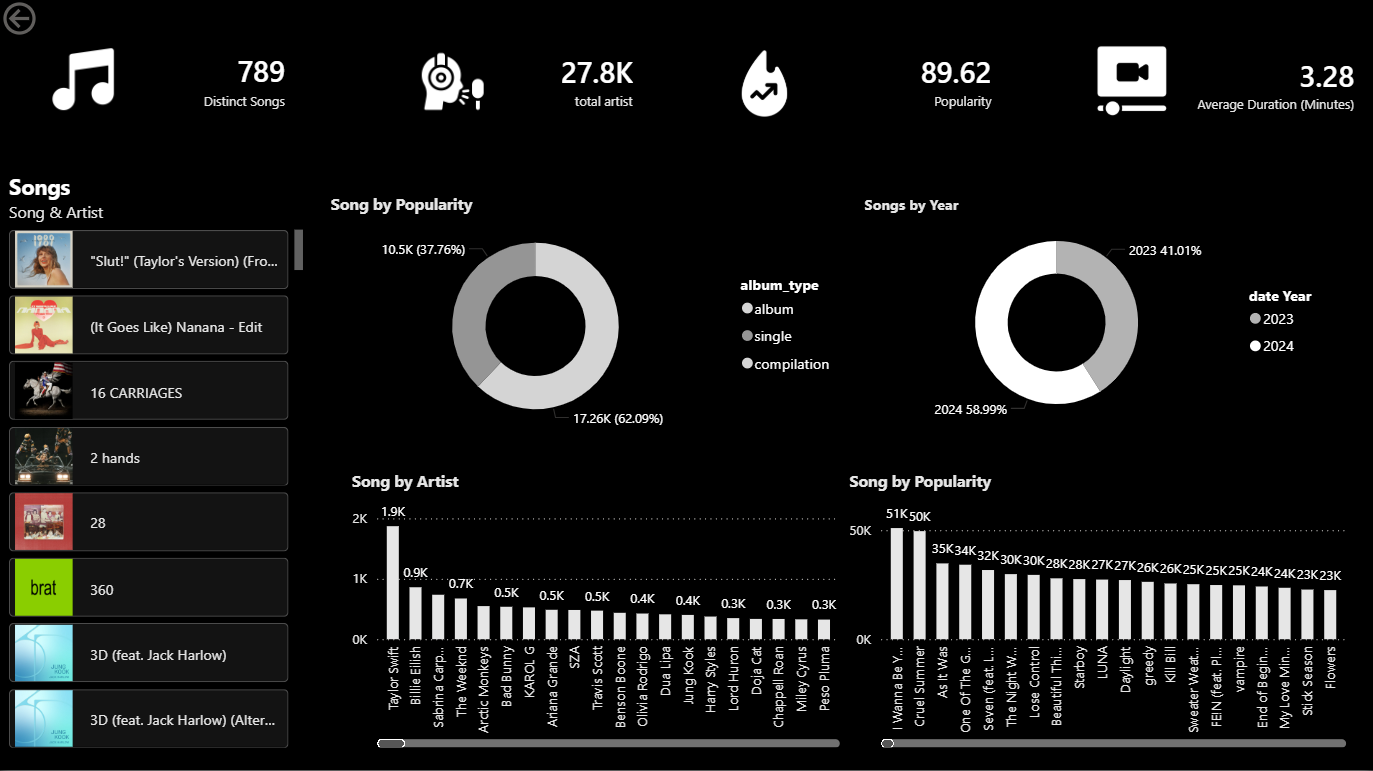

The page's visual inventory and layout, read from the dashboard file:
{"tool":"powerbi","page":{"name":"Overview","canvas":[1280,720],"ordinal":1},"visuals":[{"type":"advancedSlicerVisual","title":"Songs","fields":{"Values":["spotify-top-50-world.song"],"Label":["Min(spotify-top-50-world.album_cover_url)"]},"box":[9.6,163.3,275.8,539.3],"z":0},{"type":"columnChart","title":"Song by Artist","fields":{"Category":["spotify-top-50-world.artist"],"Y":["CountNonNull(spotify-top-50-world.song)"]},"box":[323.8,439.1,463.8,263.5],"z":1000},{"type":"columnChart","title":"Song by Popularity","fields":{"Category":["spotify-top-50-world.song"],"Y":["Sum(spotify-top-50-world.popularity)"]},"box":[787.7,439.1,472,263.5],"z":2000},{"type":"actionButton","box":[0,0,100,40],"z":3000},{"type":"donutChart","title":"Song by Popularity","fields":{"Category":["spotify-top-50-world.album_type"],"Y":["CountNonNull(spotify-top-50-world.song)"]},"box":[304.6,182.5,483,229.2],"z":4000},{"type":"cardVisual","fields":{"Data":["Measure.Distinct Songs"]},"box":[20.6,39.8,264.8,76.8],"z":5000},{"type":"image","box":[393.8,43.9,57.6,68.6],"z":6000},{"type":"image","box":[691.6,49.4,61.7,63.1],"z":7000},{"type":"image","box":[975.6,39.8,157.8,76.8],"z":8000},{"type":"image","box":[49.4,48,60.4,57.6],"z":9000},{"type":"cardVisual","fields":{"Data":["CountNonNull(Top-50-World.artist)"]},"box":[323.8,43.9,284,68.6],"z":10000},{"type":"cardVisual","fields":{"Data":["Measure.Average Popularity"]},"box":[658.1,41.9,284.9,72.1],"z":11000},{"type":"cardVisual","fields":{"Data":["Measure.Average Duration (Minutes)"]},"box":[996.5,45.3,283.7,72.1],"z":12000},{"type":"donutChart","title":"Songs by Year","fields":{"Category":["Top-50-World.date.Variation.Date Hierarchy.Year"],"Y":["CountNonNull(Top-50-World.song)"]},"box":[801.4,182.5,444.6,219.6],"z":13000}]}

Visuals, with their boxes in screenshot pixels (x1, y1, x2, y2), scaled from the page's 1280x720 canvas onto the 1373x771 screenshot:
"Songs" advancedSlicerVisual: (x1=10, y1=175, x2=306, y2=752)
"Song by Artist" columnChart: (x1=347, y1=470, x2=845, y2=752)
"Song by Popularity" columnChart: (x1=845, y1=470, x2=1351, y2=752)
actionButton: (x1=0, y1=0, x2=107, y2=43)
"Song by Popularity" donutChart: (x1=327, y1=195, x2=845, y2=441)
cardVisual - Measure.Distinct Songs: (x1=22, y1=43, x2=306, y2=125)
image: (x1=422, y1=47, x2=484, y2=120)
image: (x1=742, y1=53, x2=808, y2=120)
image: (x1=1046, y1=43, x2=1216, y2=125)
image: (x1=53, y1=51, x2=118, y2=113)
cardVisual - CountNonNull(Top-50-World.artist): (x1=347, y1=47, x2=652, y2=120)
cardVisual - Measure.Average Popularity: (x1=706, y1=45, x2=1012, y2=122)
cardVisual - Measure.Average Duration (Minutes): (x1=1069, y1=49, x2=1372, y2=126)
"Songs by Year" donutChart: (x1=860, y1=195, x2=1337, y2=431)
